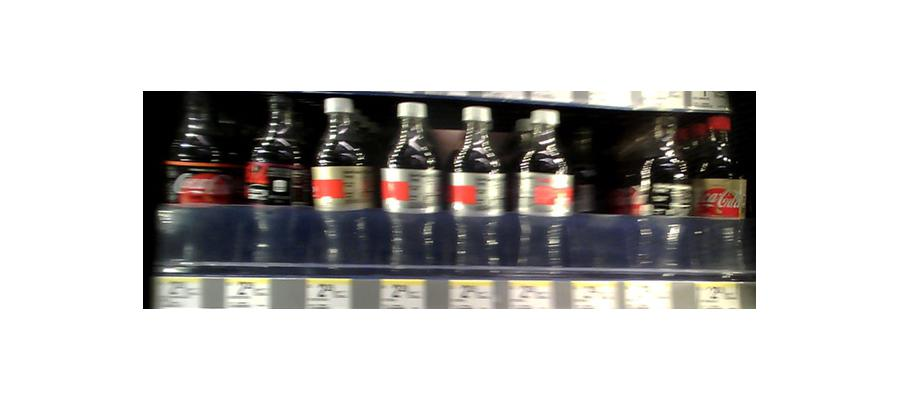bottle: (161, 105, 241, 279), (310, 92, 377, 272), (243, 94, 306, 273), (383, 93, 443, 272), (448, 99, 506, 272), (513, 104, 571, 272), (690, 101, 747, 267), (634, 120, 685, 268)
